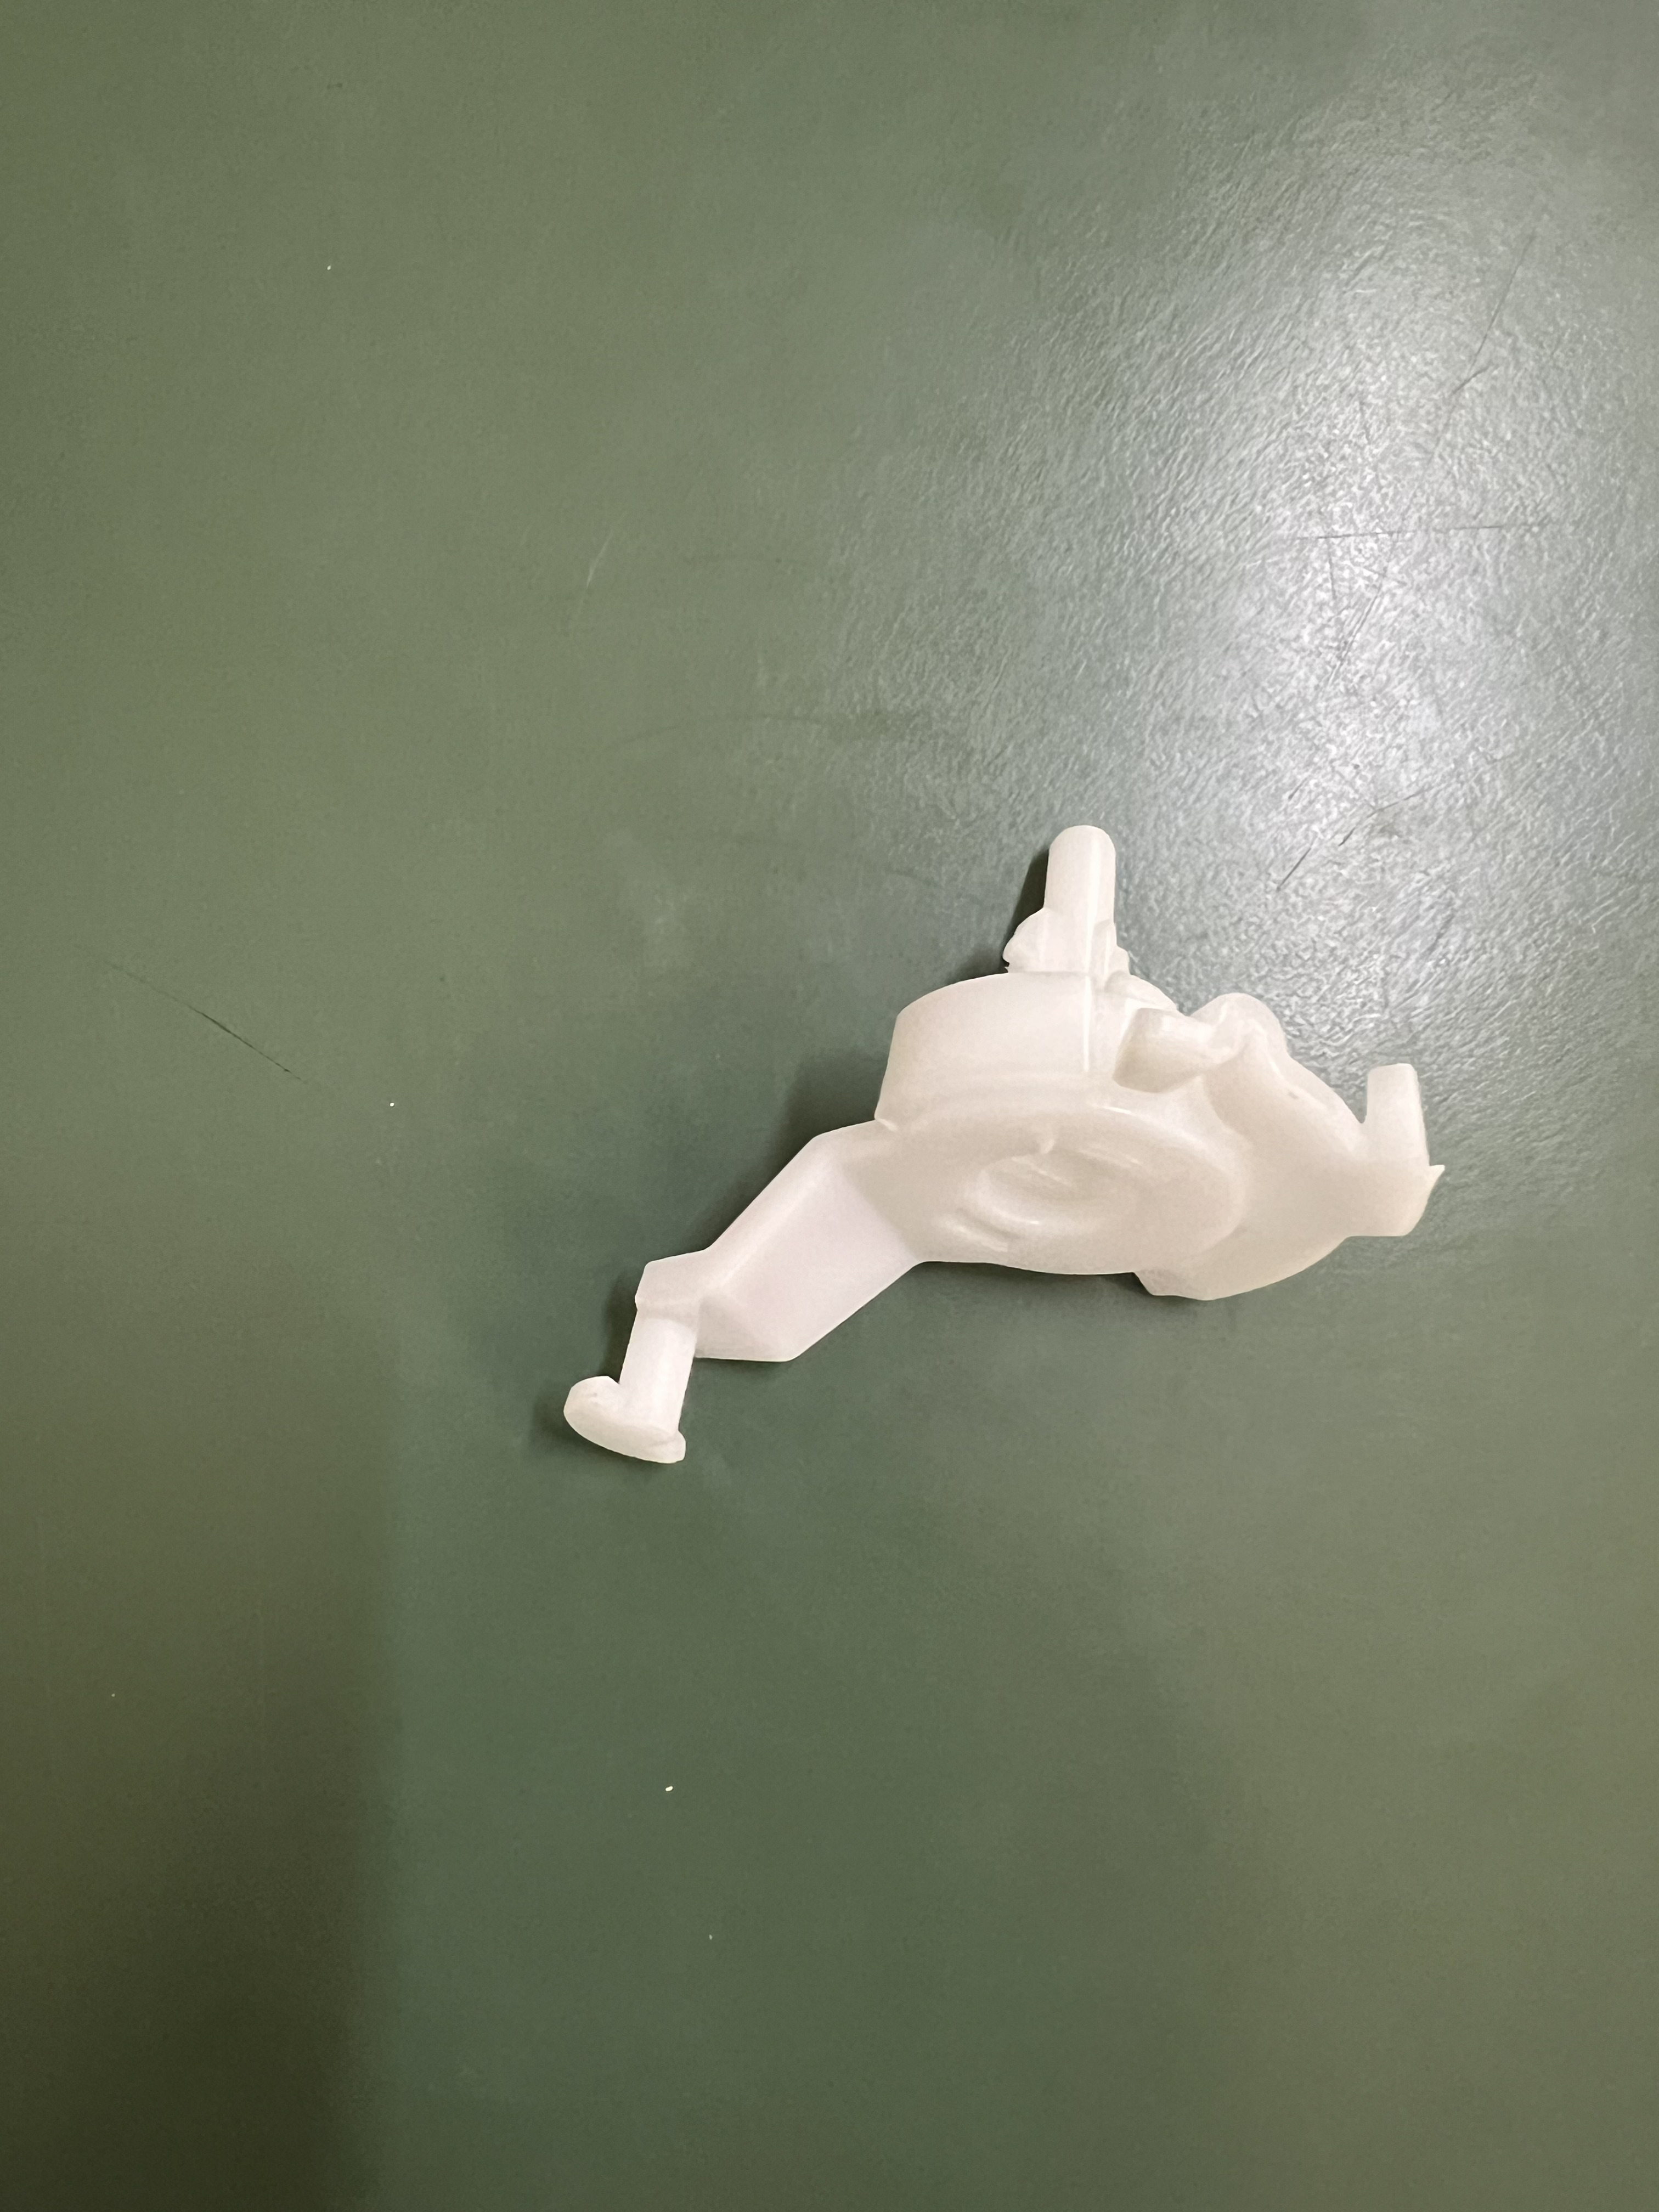drain_lever: (500, 819, 1457, 1494)
